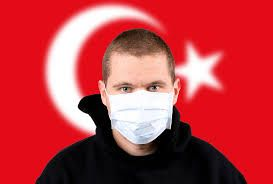with-mask: (98, 30, 183, 147)
